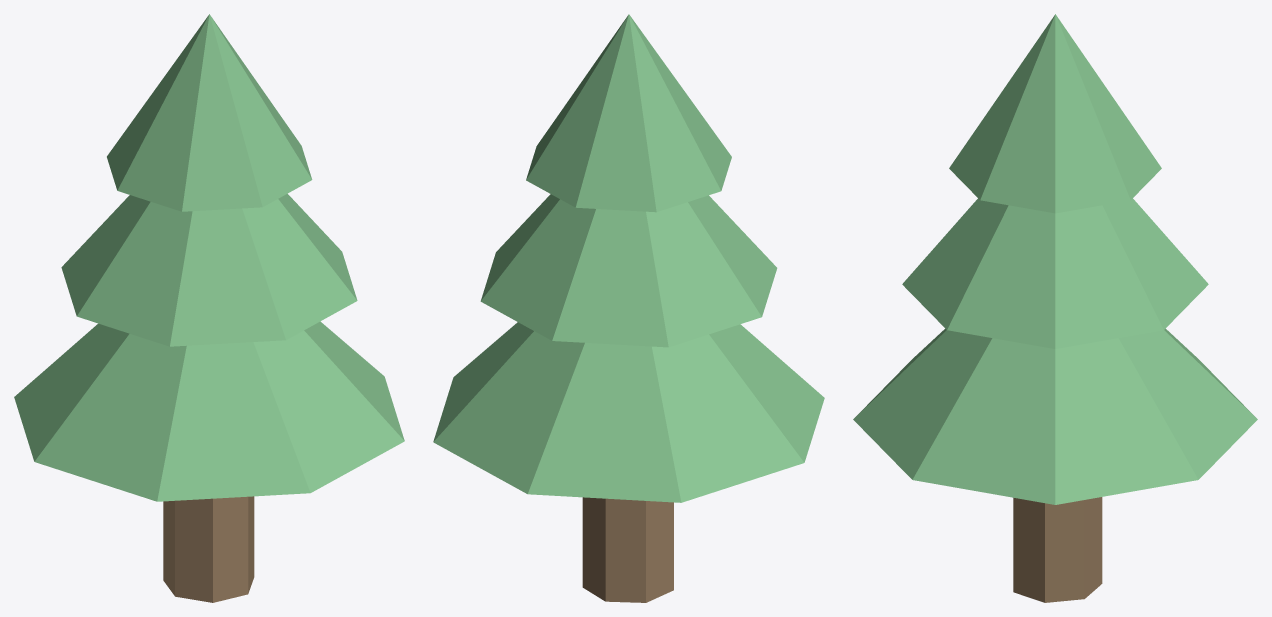
Rendered from tree.glb.
The picture shows the model from 3 angles, left to right: view 1: azimuth 30°, elevation 25°; view 2: azimuth 150°, elevation 25°; view 3: azimuth 270°, elevation 25°; orthographic projection.
Visible parts, largest first — view 1: tree; view 2: tree; view 3: tree.
Part boxes in pixels (bbox=[...]): tree: bbox=[14, 14, 404, 602]; tree: bbox=[433, 14, 824, 602]; tree: bbox=[853, 14, 1257, 602].
Bounding box in the file's own units: 1.93 × 3 × 1.93.
